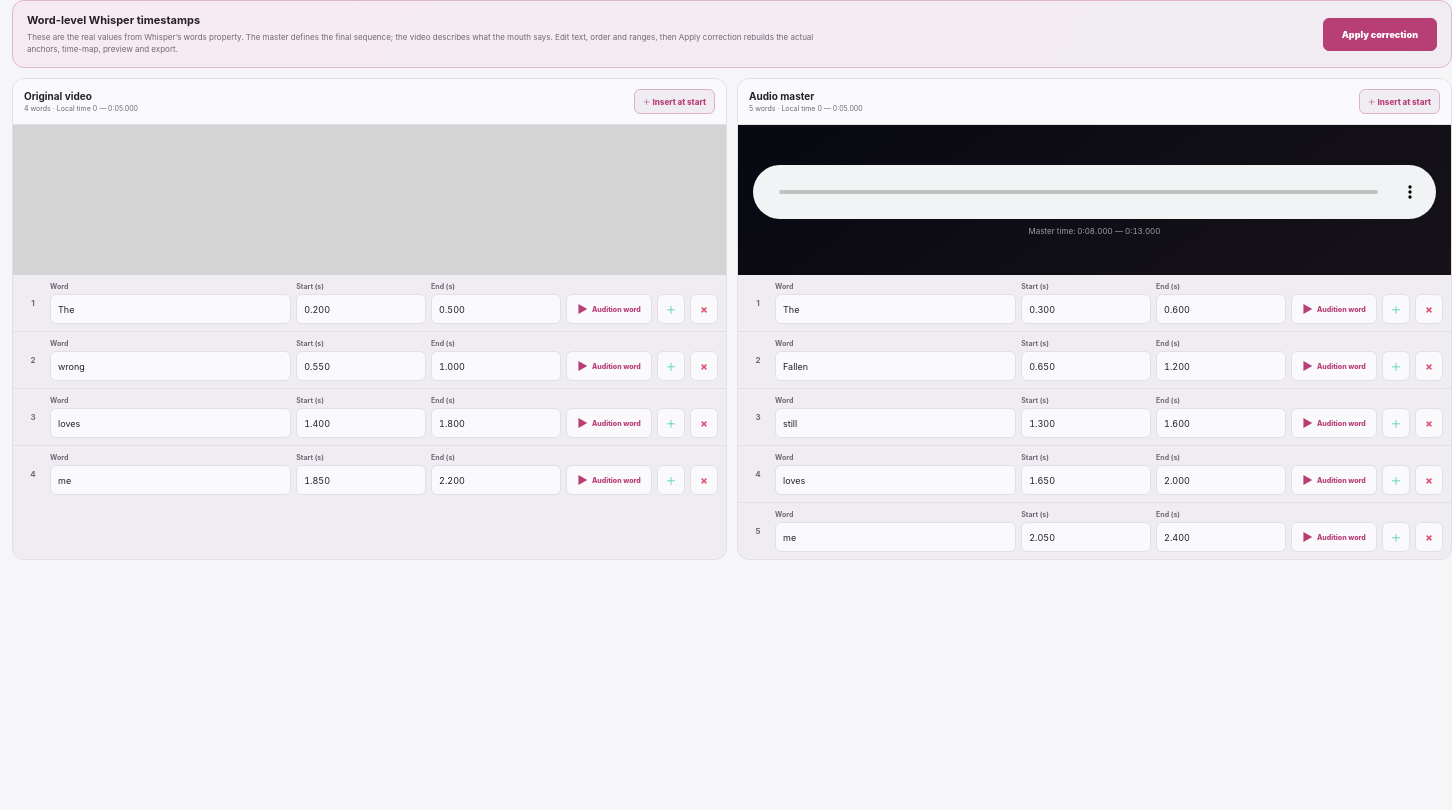
Test: MlsmWhisperWordEditor › exposes a word-by-word audition button for both media tracks
What coordinates should you click on to do the following:
click the button with aria-label "Audition word: The · Original video"
I would click on:
 (609, 309)
Its box is 566,294 -> 652,324.
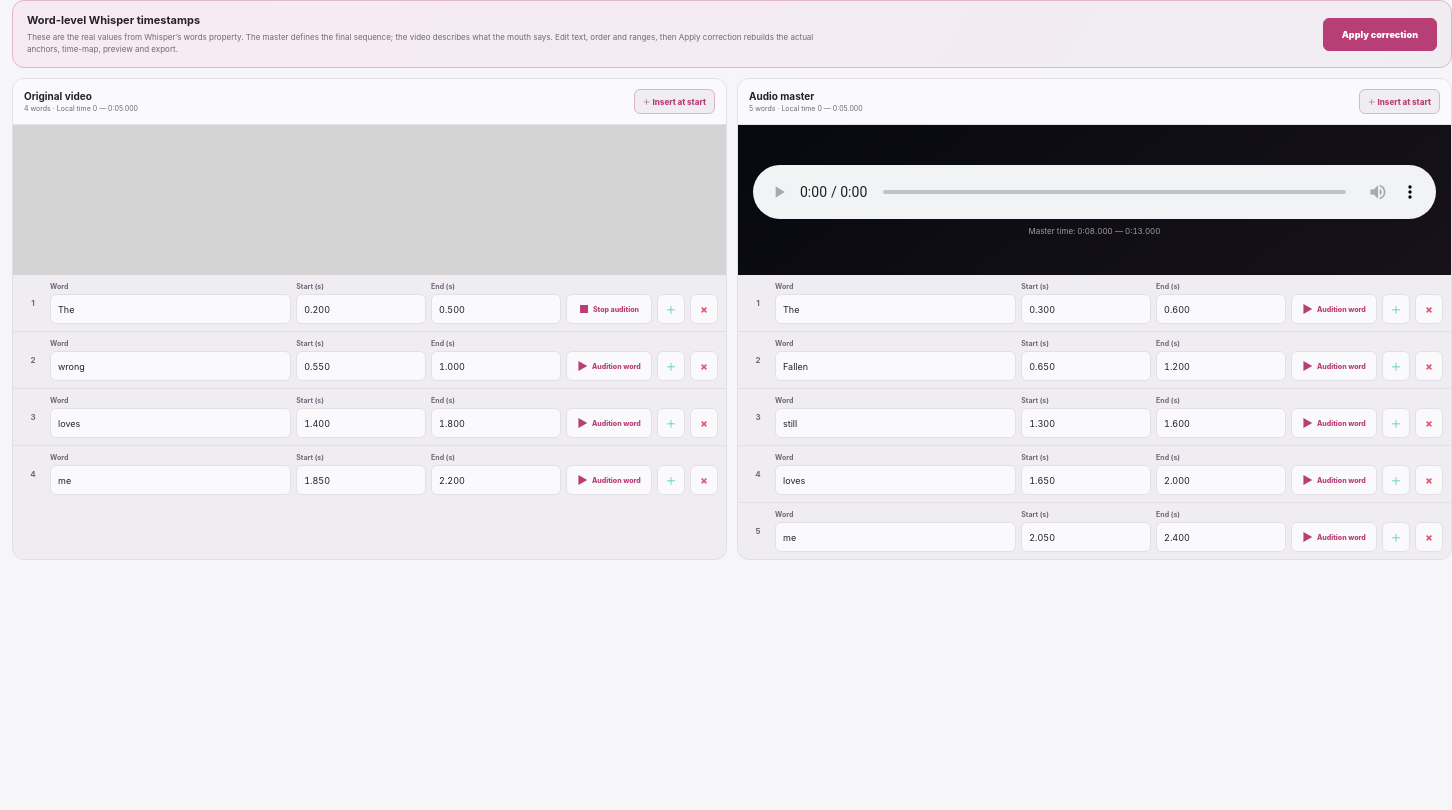
Expected: the button with aria-label "Stop audition: The · Original video" is shown, 566,294 -> 652,324
